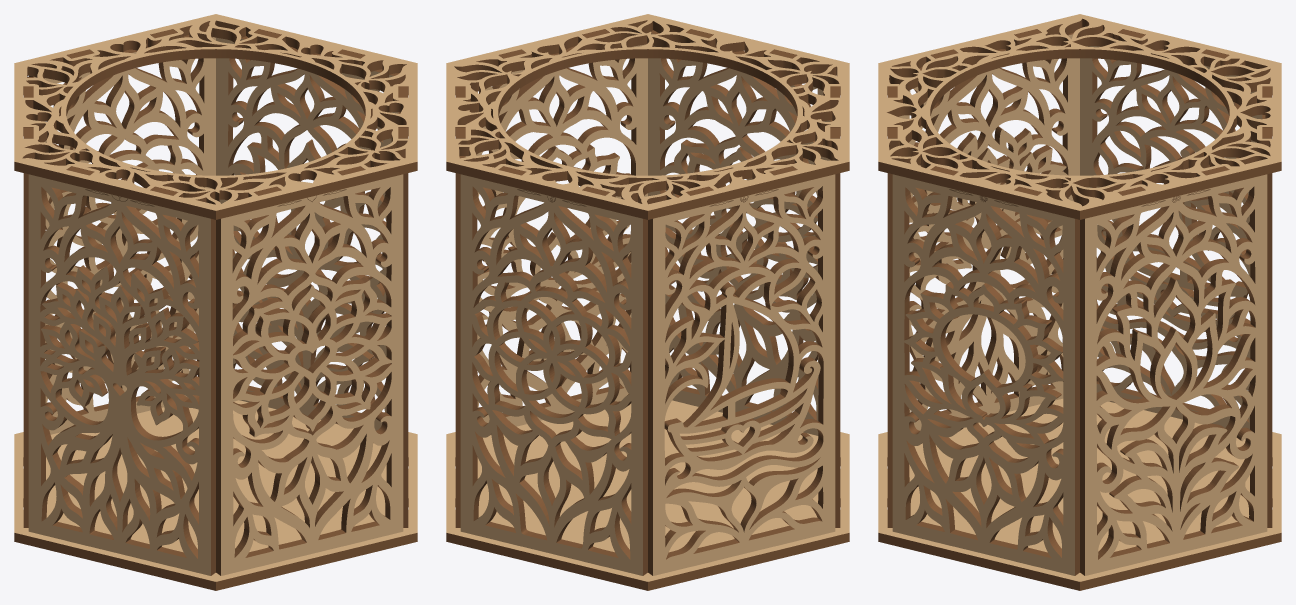
Rendered from Lumi_2.glb.
The picture shows the model from 3 angles, left to right: view 1: azimuth 30°, elevation 25°; view 2: azimuth 150°, elevation 25°; view 3: azimuth 270°, elevation 25°; orthographic projection.
Parts seen in each view (by area): view 1: Strom života, Srdcová mandala, Vršek, Čistý lotos, Dno, Květ života, Hiranjagarbha, Loď Království srdce; view 2: Květ života, Loď Království srdce, Vršek, Srdcová mandala, Dno, Hiranjagarbha, Čistý lotos, Strom života; view 3: Čistý lotos, Hiranjagarbha, Vršek, Strom života, Loď Království srdce, Dno, Květ života, Srdcová mandala.
Boxes of the visible parts, x1,y1,x2,y2 form: Strom života: (28,166,215,575); Srdcová mandala: (216,166,403,575); Vršek: (14,14,417,219); Čistý lotos: (216,29,399,430); Dno: (14,400,417,590); Květ života: (28,29,215,434); Hiranjagarbha: (398,86,408,527); Loď Království srdce: (23,77,33,527); Květ života: (460,166,647,575); Loď Království srdce: (648,166,835,575); Vršek: (446,14,849,219); Srdcová mandala: (648,29,830,435); Dno: (446,400,849,590); Hiranjagarbha: (465,29,647,426); Čistý lotos: (455,86,465,527); Strom života: (830,86,840,527); Čistý lotos: (1080,166,1267,575); Hiranjagarbha: (892,166,1079,575); Vršek: (878,14,1281,219); Strom života: (898,29,1079,430); Loď Království srdce: (1080,29,1262,429); Dno: (878,398,1281,590); Květ života: (1262,86,1272,527); Srdcová mandala: (887,86,897,527).
Bounding box in the file's own units: 0.14 × 0.126 × 0.1212.
